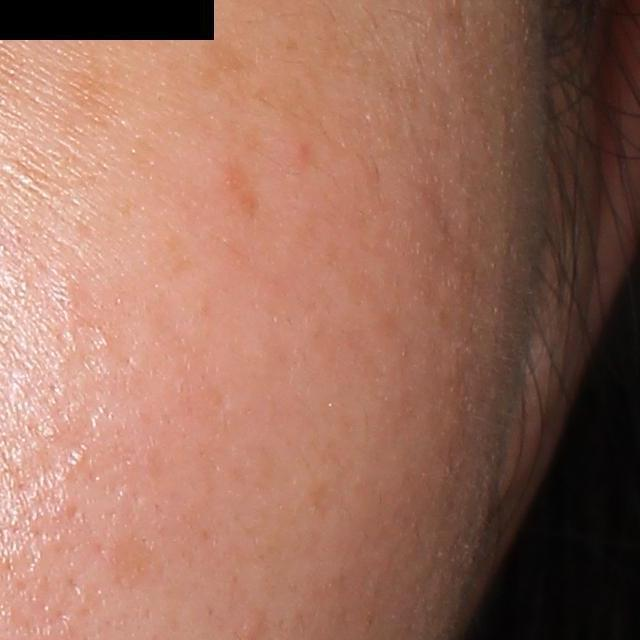melasma: (199, 41, 241, 92), (224, 165, 260, 222)
